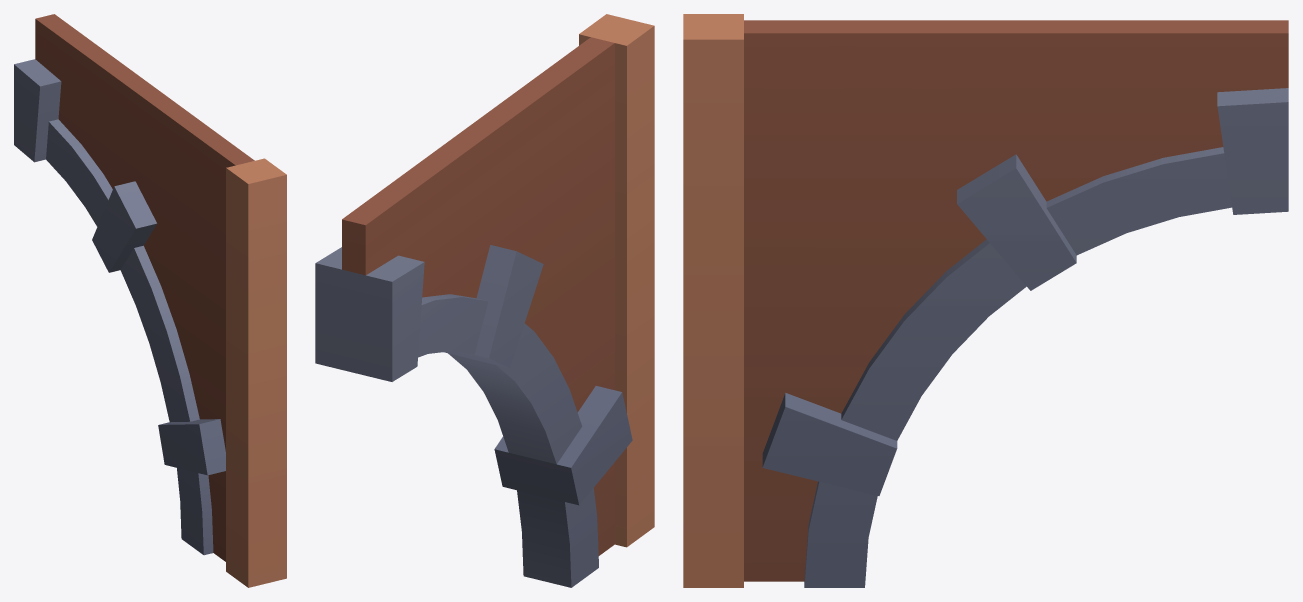
File: wall-wood-arch-top-detail.glb
3 views of the same model, side by side, from view 1: azimuth 30°, elevation 25°; view 2: azimuth 150°, elevation 25°; view 3: azimuth 270°, elevation 25° (orthographic). The views are drawn at different scales.
Visible parts, largest first — view 1: wall-wood-arch-top-detail; view 2: wall-wood-arch-top-detail; view 3: wall-wood-arch-top-detail.
Boxes of the visible parts, x1,y1,x2,y2 form: wall-wood-arch-top-detail: (14,14,286,587); wall-wood-arch-top-detail: (315,14,654,587); wall-wood-arch-top-detail: (683,14,1288,587).
Size of the model in its own units: 0.16 by 1 by 1.
Materials: 1 (1 with a texture image).
